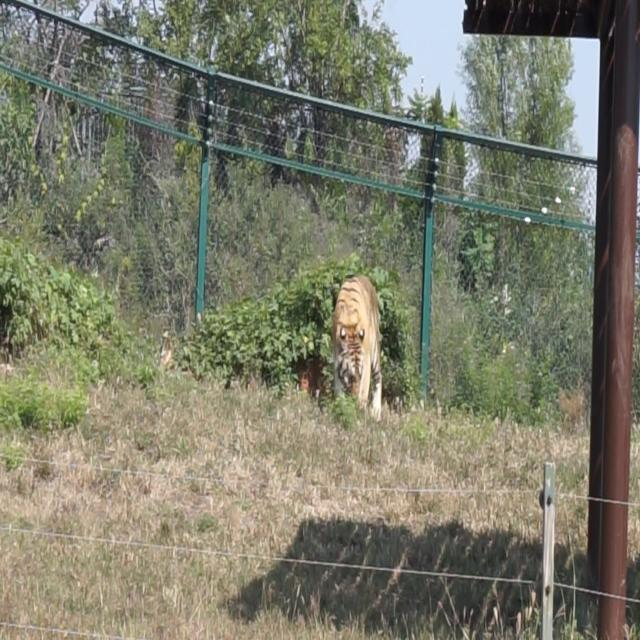Tiger: (327, 269, 406, 428)
